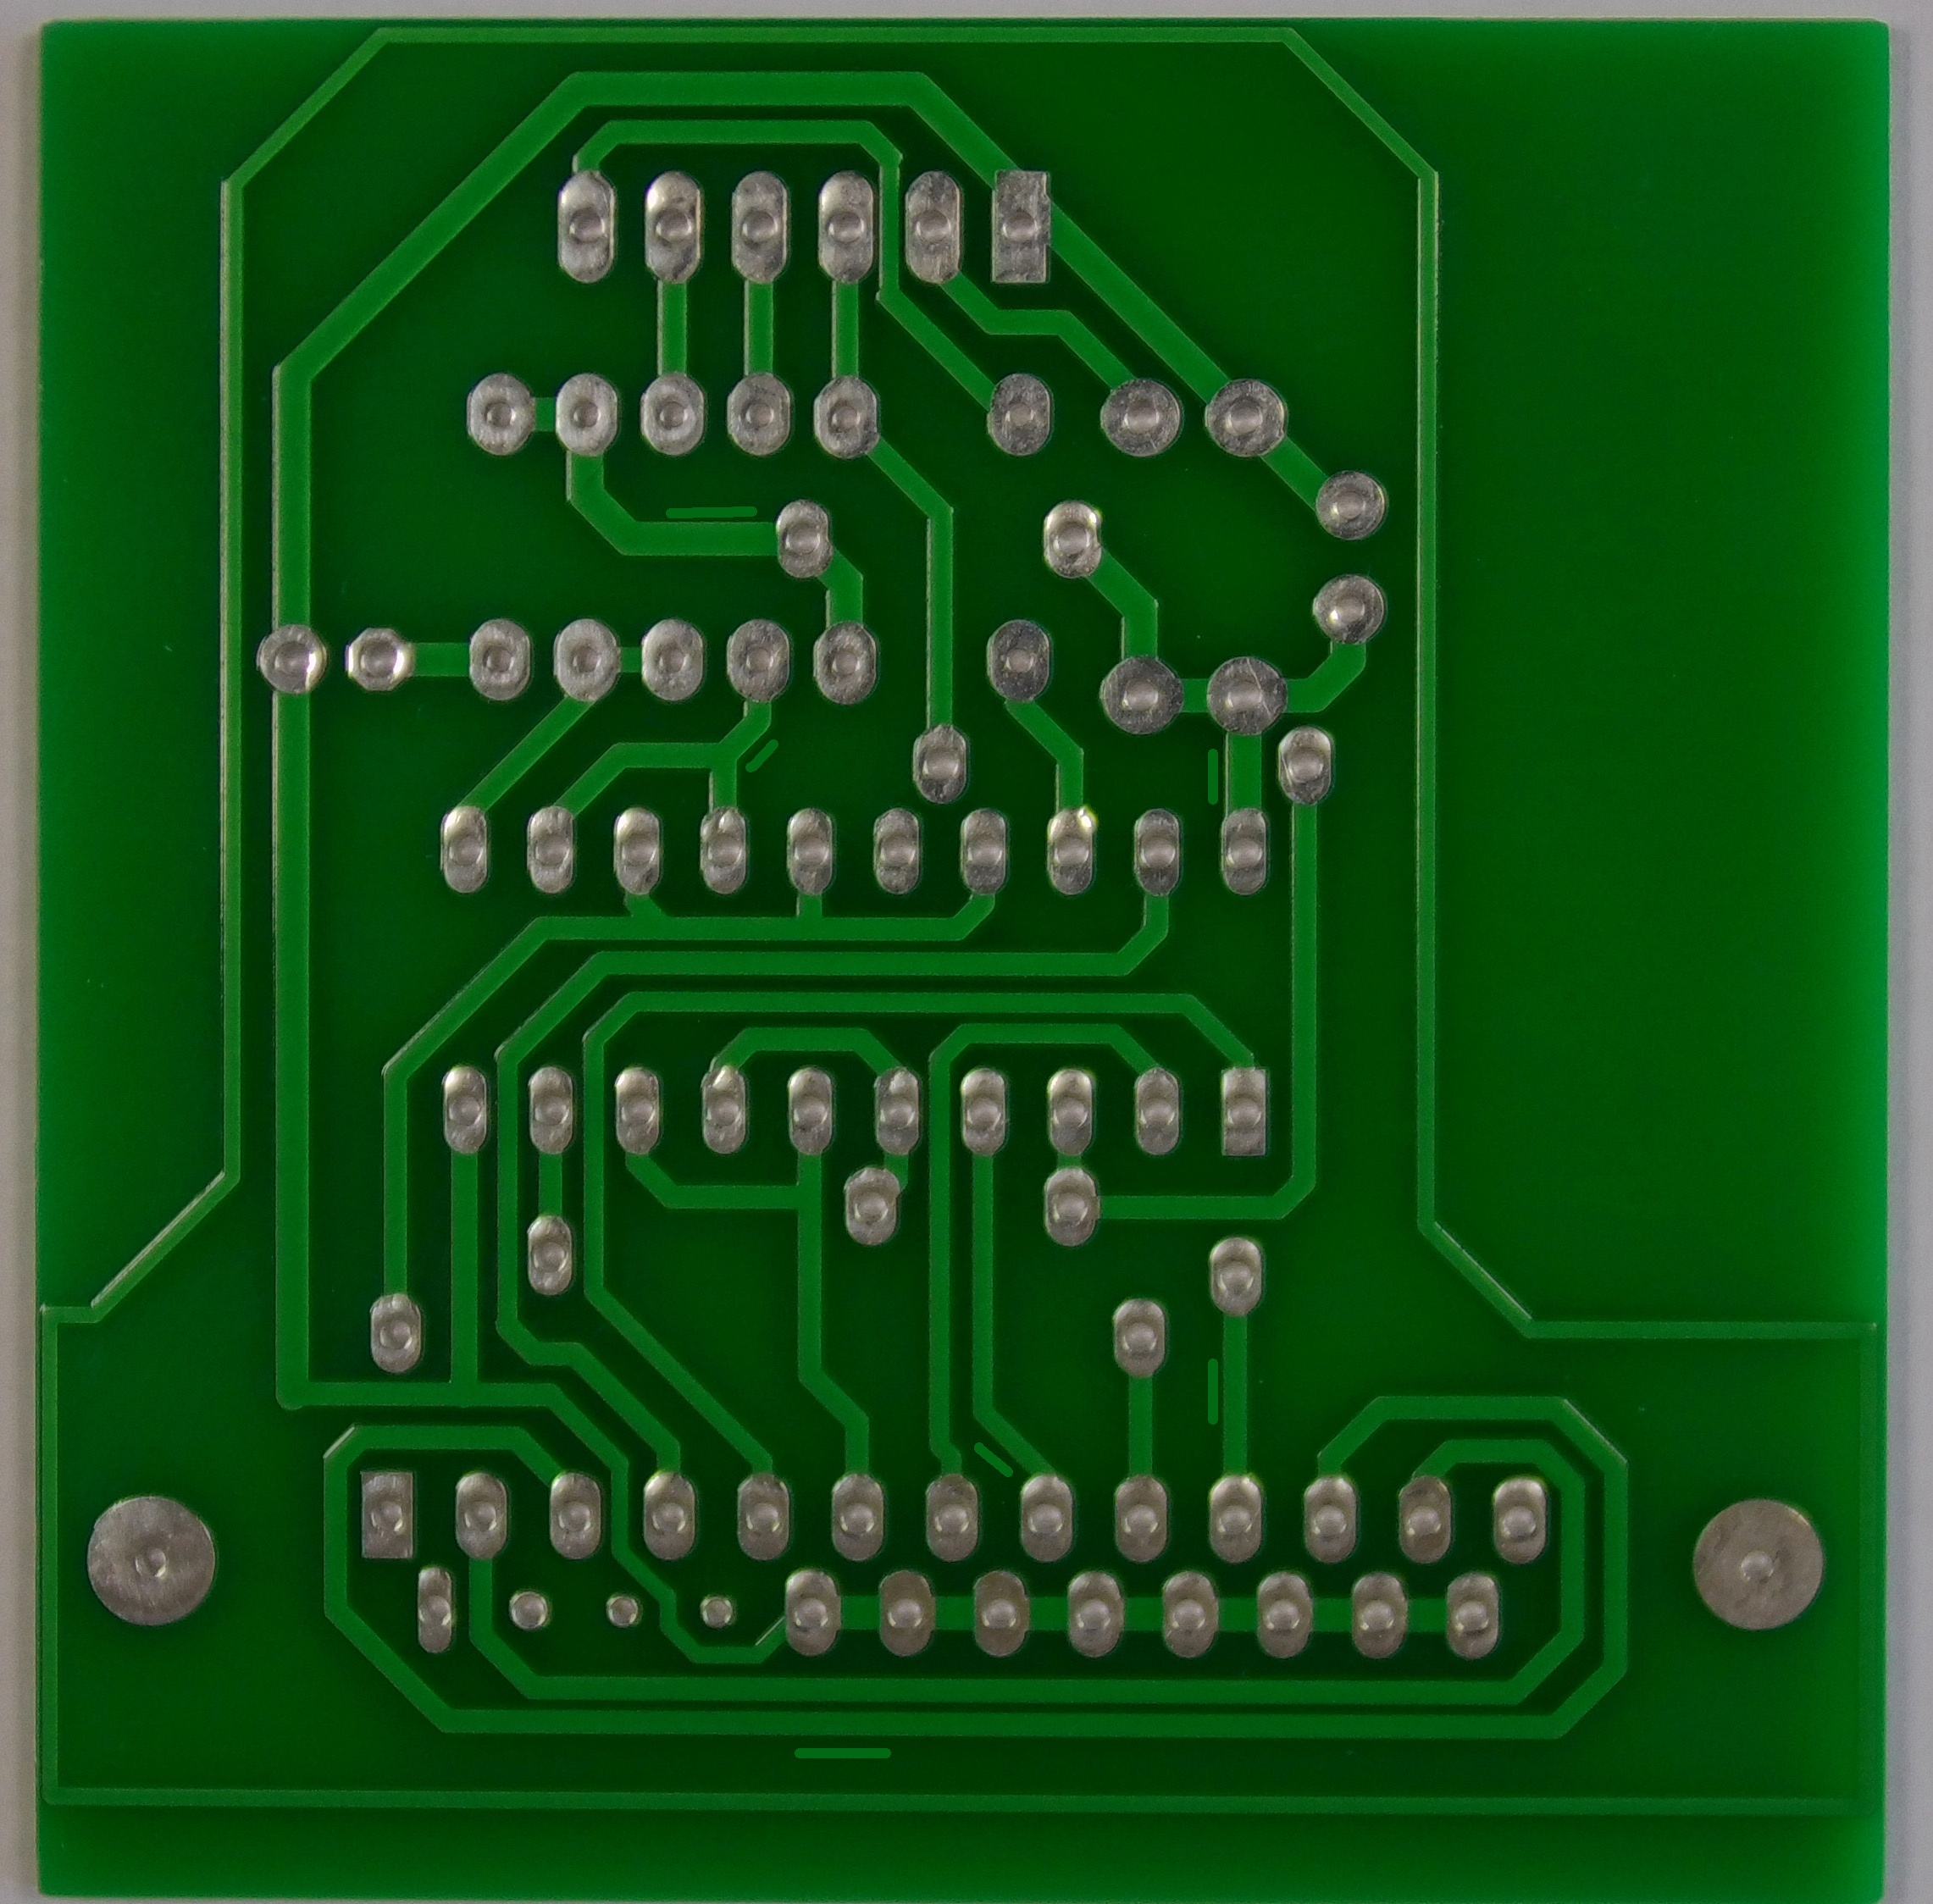spurious_copper: (784, 1732, 905, 1784), (657, 492, 764, 534), (1188, 1350, 1239, 1435), (953, 1428, 1024, 1489), (1192, 734, 1234, 811), (737, 730, 789, 784)
